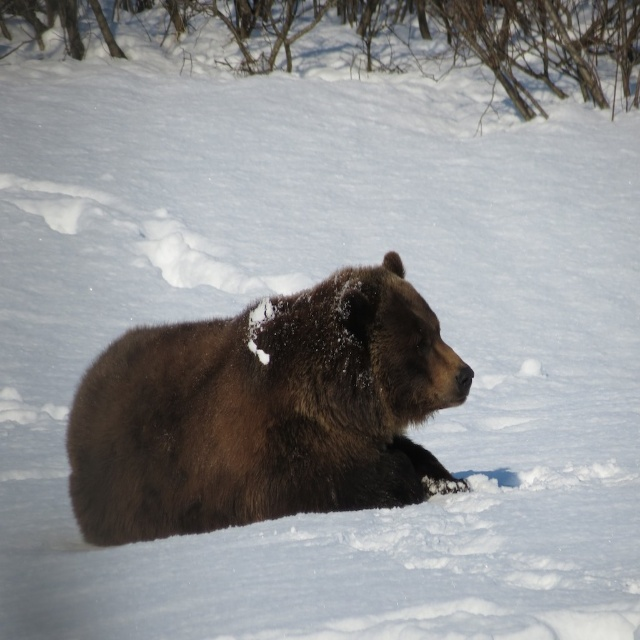Brown bear: (64, 251, 475, 550)
